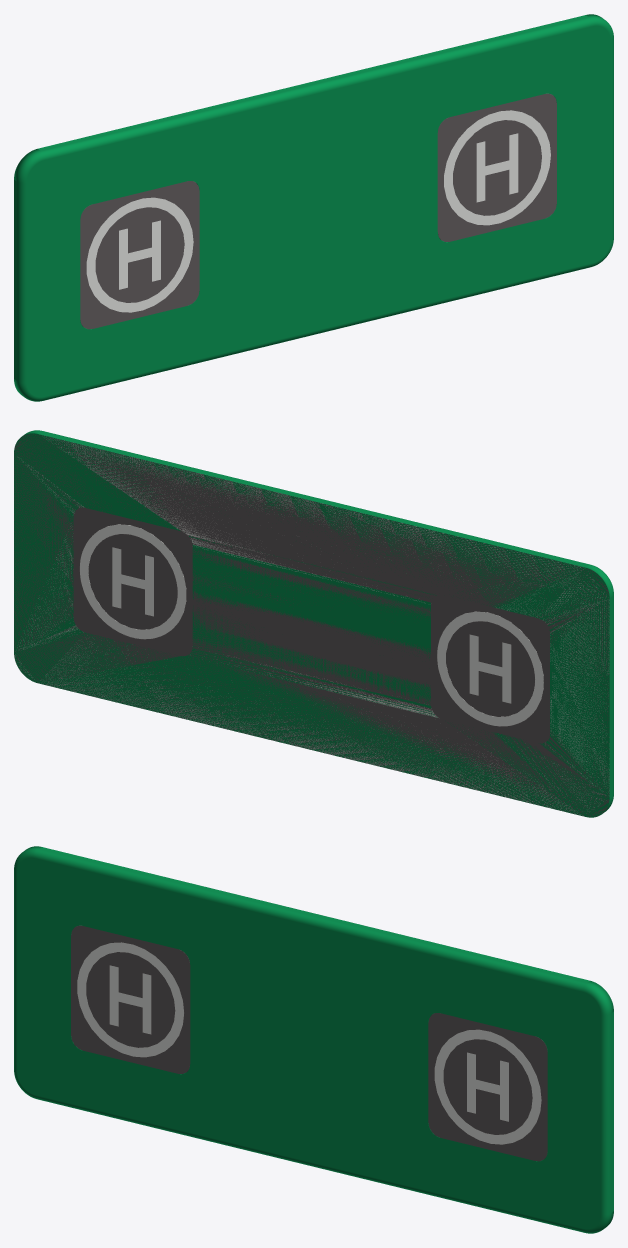
File: refilling_station_original.dae
The picture shows the model from 3 angles, top to bottom: view 1: azimuth 30°, elevation 25°; view 2: azimuth 150°, elevation 25°; view 3: azimuth 330°, elevation 25°; orthographic projection.
Parts seen in each view (by area): view 1: Solido1, Solido1_1, Solido1_2; view 2: Solido1_1, Solido1, Solido1_2; view 3: Solido1, Solido1_1, Solido1_2.
Boxes of the visible parts, x1=… form: Solido1: x1=14, y1=14, x2=613, y2=401; Solido1_1: x1=80, y1=93, x2=556, y2=329; Solido1_2: x1=86, y1=110, x2=550, y2=312; Solido1_1: x1=14, y1=434, x2=609, y2=816; Solido1: x1=14, y1=430, x2=613, y2=817; Solido1_2: x1=15, y1=436, x2=609, y2=816; Solido1: x1=14, y1=846, x2=613, y2=1233; Solido1_1: x1=71, y1=925, x2=547, y2=1161; Solido1_2: x1=77, y1=942, x2=541, y2=1144.
Bounding box in the file's own units: 50 × 1 × 20.
